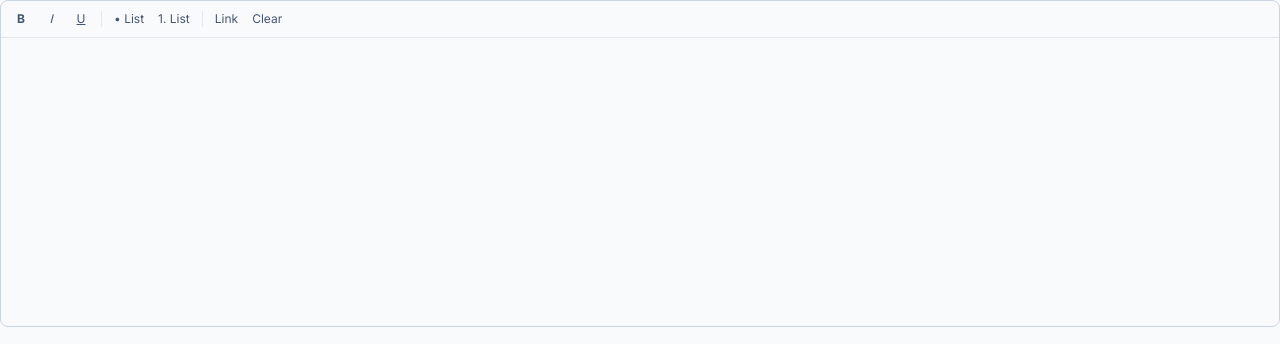
Test: RichTextEditor › shows the placeholder again when content is cleared
Expected: the text "Type here…" is not shown
Clear the field named "Job description editor" at (640, 182), box [1,38,1279,326]
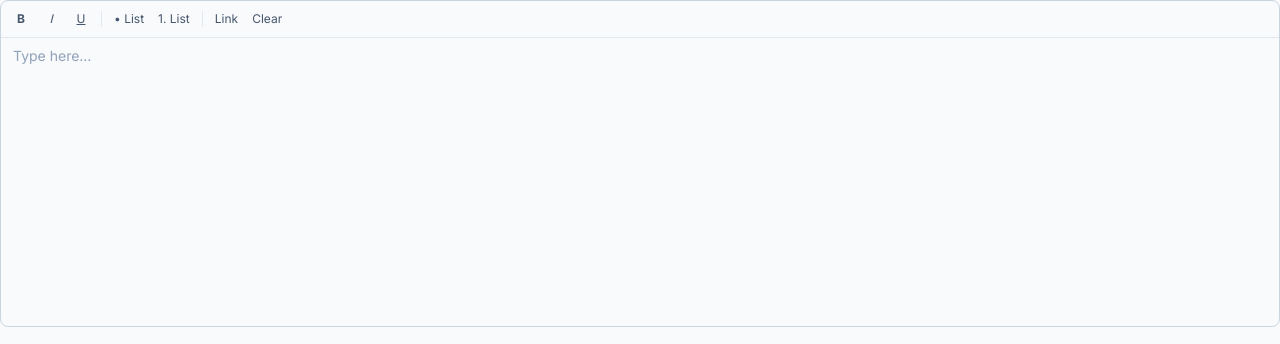
Now the text "Type here…" is shown, box [13,46,92,66]
